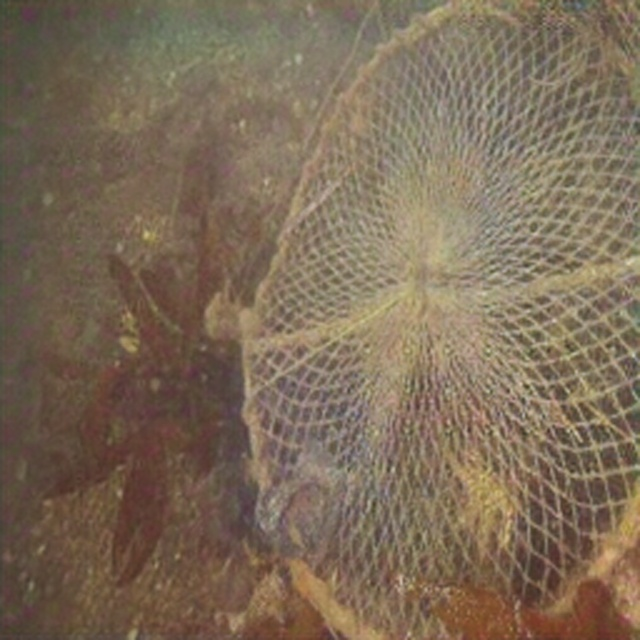mine: (241, 0, 639, 639)
